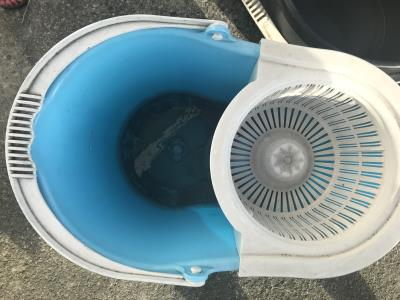bucket: (5, 13, 400, 287)
